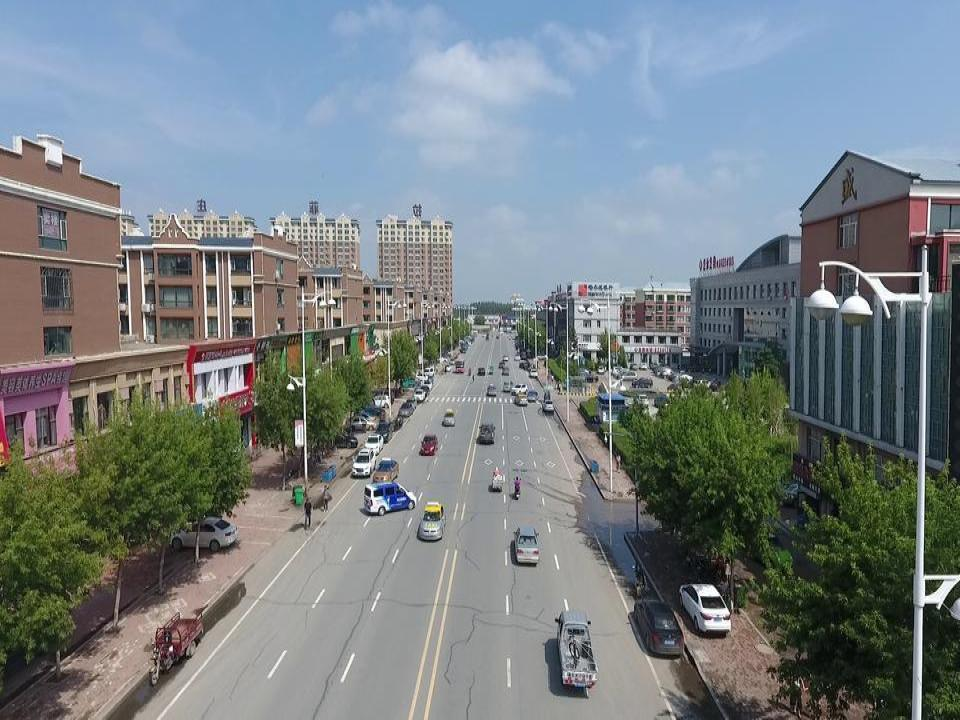bus: (454, 357, 464, 372)
car: (634, 598, 685, 658), (678, 584, 731, 632), (169, 516, 238, 552), (780, 483, 825, 508), (513, 527, 539, 564), (418, 503, 444, 540), (372, 457, 399, 487), (352, 448, 376, 476), (322, 431, 358, 448), (346, 415, 378, 430), (363, 433, 384, 455), (419, 433, 438, 455), (374, 421, 393, 443), (351, 411, 380, 424), (359, 407, 386, 420), (479, 423, 495, 444), (372, 389, 394, 404), (367, 395, 390, 408), (633, 394, 649, 410), (632, 376, 653, 388), (654, 396, 673, 409), (443, 408, 455, 425), (514, 393, 528, 407), (398, 403, 413, 416), (511, 383, 528, 393), (413, 390, 426, 402), (542, 400, 554, 413), (419, 384, 430, 396), (527, 390, 538, 402), (406, 396, 416, 409), (486, 383, 496, 396), (423, 380, 432, 391), (536, 353, 548, 360), (530, 368, 538, 377), (519, 362, 529, 369), (502, 366, 510, 374), (477, 366, 485, 374), (520, 351, 527, 360), (498, 361, 505, 368), (597, 366, 604, 373), (640, 362, 647, 369), (514, 353, 520, 360), (502, 355, 508, 361)
truck: (555, 611, 597, 692)
van: (363, 480, 417, 516), (503, 381, 511, 392)
